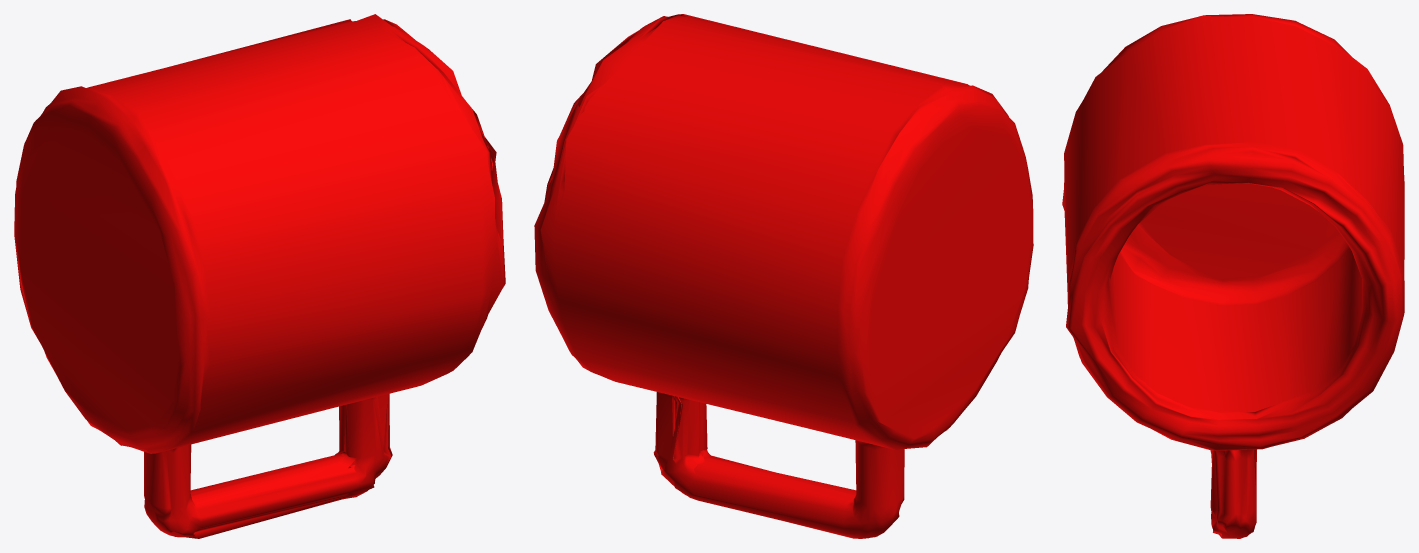
3 renders of one model, left to right at view 1: azimuth 30°, elevation 25°; view 2: azimuth 150°, elevation 25°; view 3: azimuth 270°, elevation 25°, orthographic. The views are drawn at different scales.
Parts seen in each view (by area): view 1: Renderer Node; view 2: Renderer Node; view 3: Renderer Node.
Part boxes in pixels (x1=…): Renderer Node: x1=14, y1=14, x2=505, y2=538; Renderer Node: x1=534, y1=14, x2=1033, y2=538; Renderer Node: x1=1062, y1=14, x2=1404, y2=538.
Size of the model in its own units: 0.5286 by 0.6901 by 0.509.
1 material, 1 textured.
